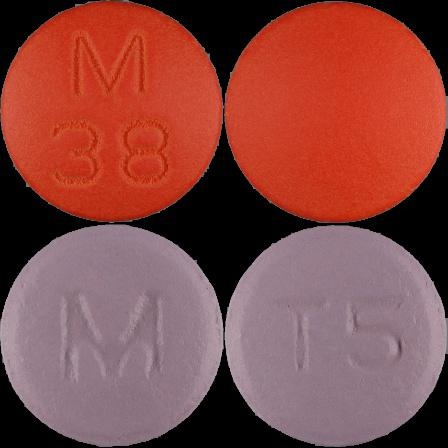51079-563: (0, 0, 224, 224)
